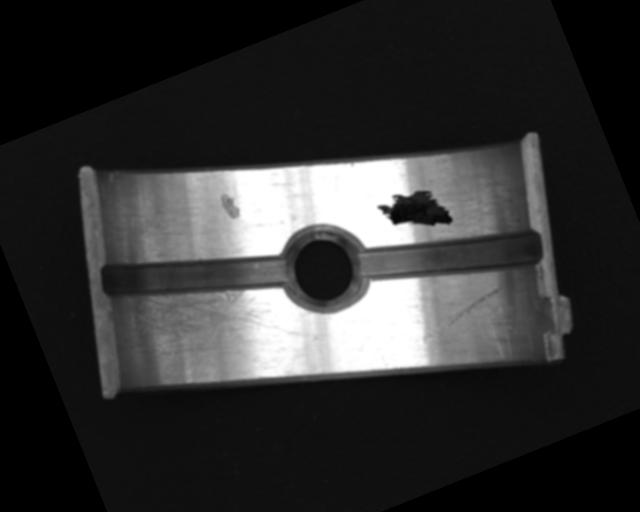blot: (374, 176, 455, 249)
bruise: (217, 189, 243, 222)
gap: (95, 202, 295, 350), (351, 186, 548, 325)
hole: (267, 216, 376, 324)
nick: (414, 284, 512, 344)
scratch: (110, 245, 298, 396)
